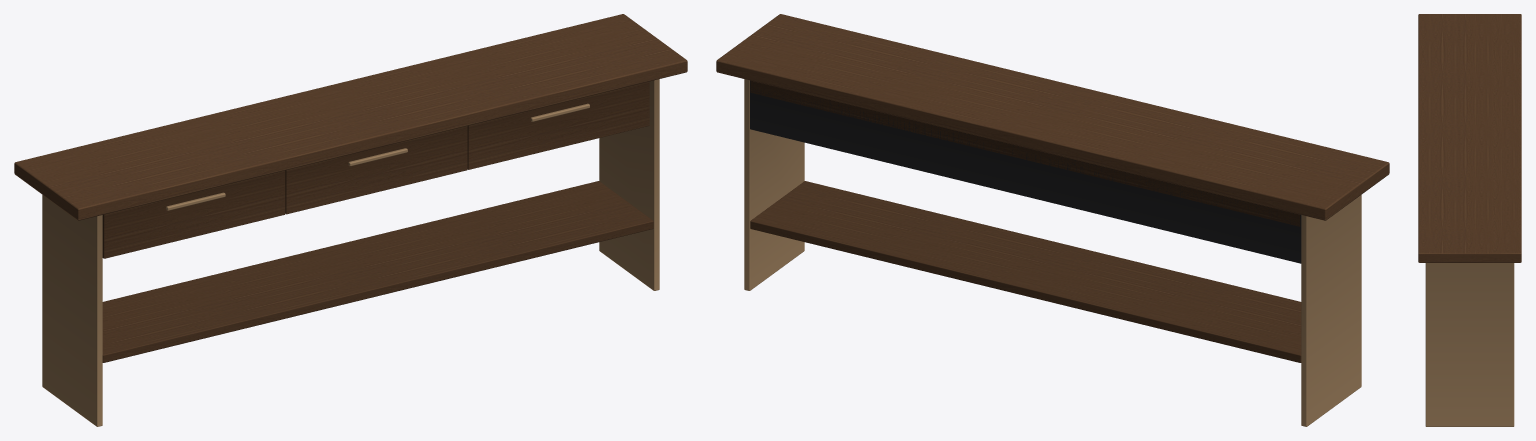
The model's file is living_console.gltf.
3 views of the same model, side by side, from view 1: azimuth 30°, elevation 25°; view 2: azimuth 150°, elevation 25°; view 3: azimuth 270°, elevation 25° (orthographic). The views are drawn at different scales.
Parts seen in each view (by area): view 1: LivingConsole_Top, LivingConsole_Shelf, LivingConsole_PanelL, LivingConsole_DrawerFace0, LivingConsole_DrawerFace1, LivingConsole_DrawerFace2, LivingConsole_PanelR; view 2: LivingConsole_Top, LivingConsole_Shelf, LivingConsole_DrawerBack, LivingConsole_PanelL, LivingConsole_BackRail, LivingConsole_PanelR; view 3: LivingConsole_Top, LivingConsole_PanelR.
Part boxes in pixels (<box>): LivingConsole_Top: <box>14,14,687,220</box>; LivingConsole_Shelf: <box>102,181,653,362</box>; LivingConsole_PanelL: <box>42,195,102,426</box>; LivingConsole_DrawerFace0: <box>102,170,285,258</box>; LivingConsole_DrawerFace1: <box>285,126,467,214</box>; LivingConsole_DrawerFace2: <box>467,81,649,169</box>; LivingConsole_PanelR: <box>599,79,659,290</box>; LivingConsole_Top: <box>716,14,1389,220</box>; LivingConsole_Shelf: <box>750,181,1301,362</box>; LivingConsole_DrawerBack: <box>750,80,1301,263</box>; LivingConsole_PanelL: <box>1301,195,1361,426</box>; LivingConsole_BackRail: <box>750,80,1300,226</box>; LivingConsole_PanelR: <box>744,79,804,290</box>; LivingConsole_Top: <box>1418,14,1521,262</box>; LivingConsole_PanelR: <box>1425,263,1514,426</box>.
Bounding box in the file's own units: 2.3 × 0.8201 × 0.42.
Materials: 3 (1 with a texture image).
